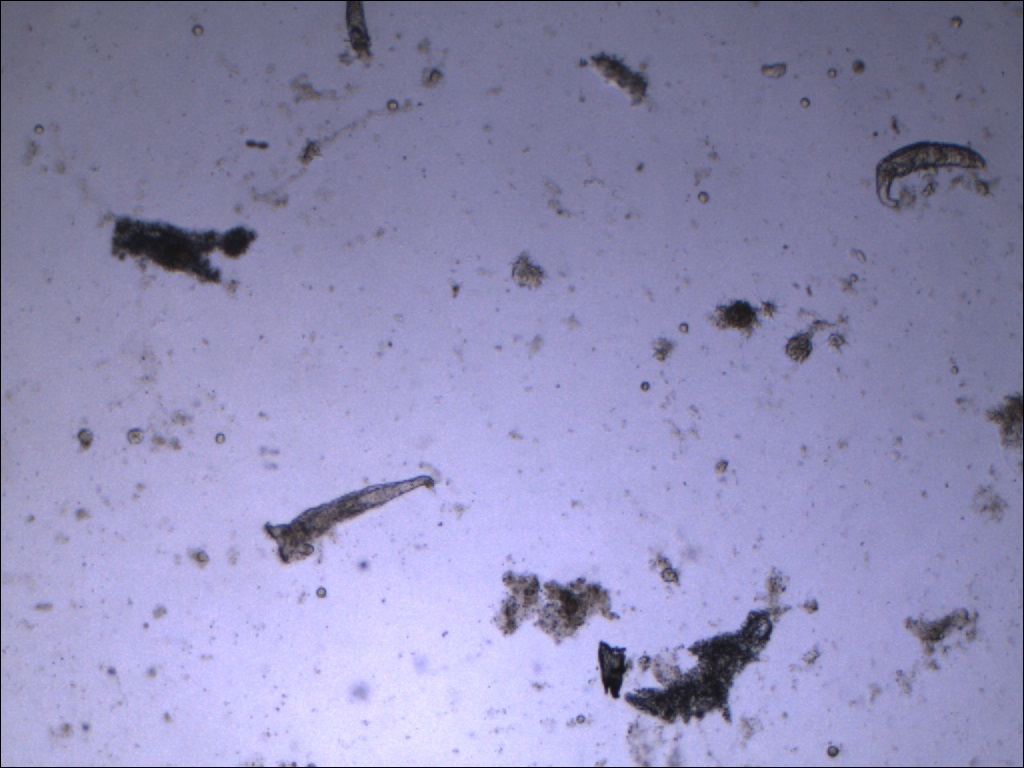amoeba: (622, 604, 779, 733), (105, 203, 261, 296)
